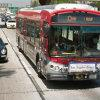Bus: (10, 3, 98, 90)
